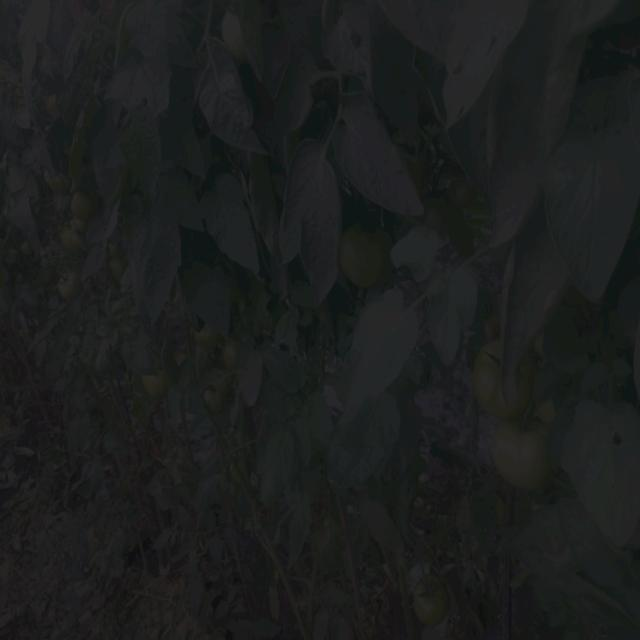tomato: (480, 418, 554, 492), (337, 225, 390, 287), (475, 337, 516, 414), (411, 583, 457, 630), (221, 16, 252, 57), (75, 193, 100, 225), (42, 169, 73, 193), (224, 341, 251, 367), (137, 375, 166, 398), (62, 229, 85, 257), (196, 320, 218, 344), (45, 91, 65, 117), (56, 271, 75, 296), (105, 257, 128, 277), (21, 243, 37, 254)
